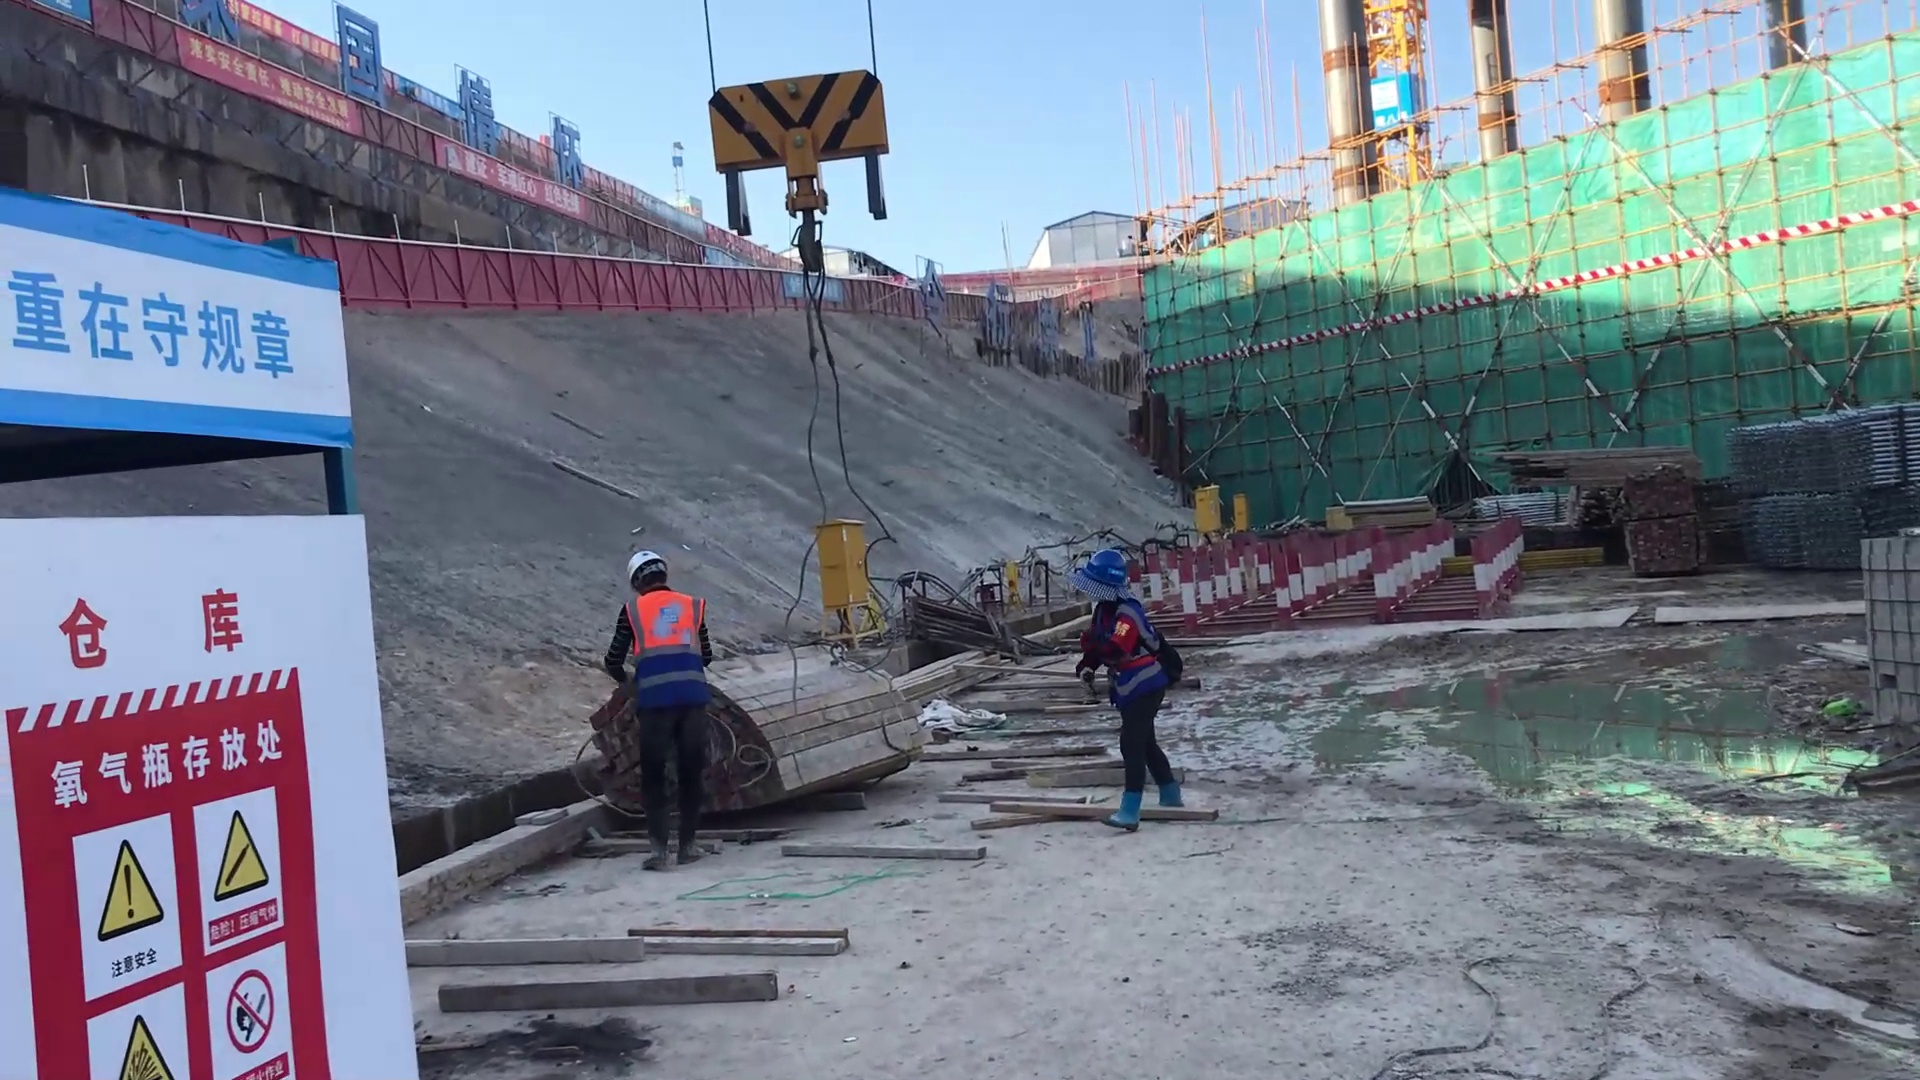brick: (1856, 534, 1920, 735)
ebox: (800, 505, 912, 660), (1188, 481, 1222, 534), (1226, 489, 1248, 532)
fence: (325, 235, 656, 320), (654, 261, 788, 322)
helmet: (1072, 555, 1123, 600), (618, 542, 667, 588)
hook: (704, 70, 897, 244)
person: (1062, 545, 1193, 846), (602, 539, 716, 881)
scaffold: (1726, 398, 1910, 492)
slogan: (33, 678, 281, 1080), (1, 257, 323, 396), (136, 18, 377, 168)
vest: (623, 594, 703, 665)
wood: (717, 645, 934, 802), (1488, 437, 1678, 504)
